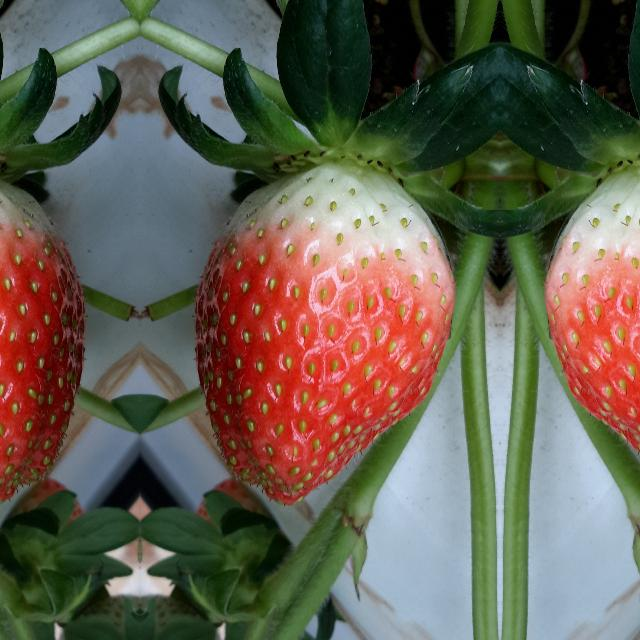Health_75: (191, 162, 455, 506), (545, 162, 640, 506), (0, 162, 89, 506)
